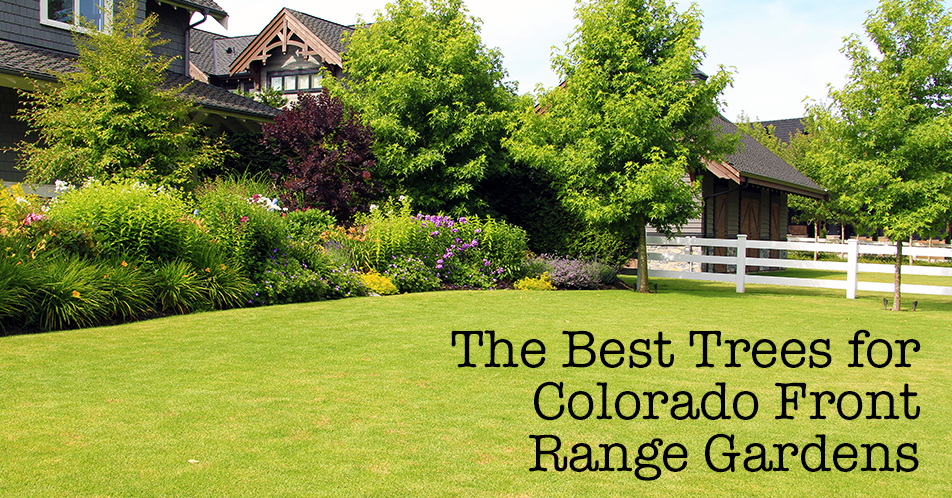bush: (1, 182, 527, 315)
tree: (506, 3, 738, 296), (802, 1, 950, 315)
